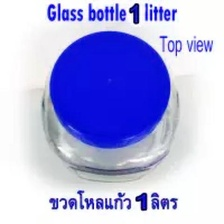bottle: (38, 27, 183, 186)
